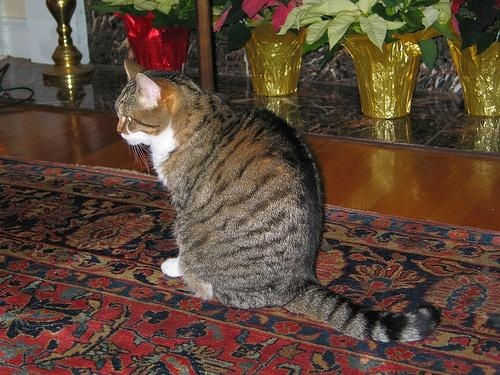cat: (109, 54, 445, 347)
pottedplant: (284, 2, 447, 121), (213, 1, 305, 99), (425, 3, 500, 120), (89, 1, 198, 71)
